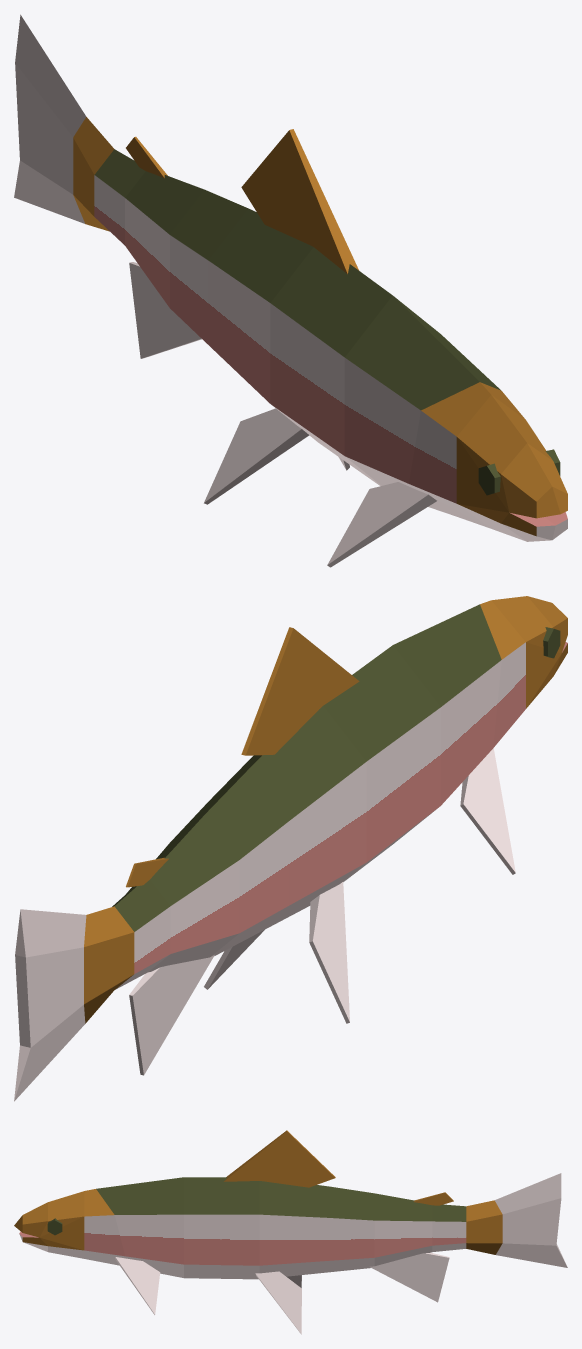
The model's file is 1dfba885-5874-4e3f-8926-0ded89b0894f.glb.
3 renders of one model, top to bottom at view 1: azimuth 30°, elevation 25°; view 2: azimuth 150°, elevation 25°; view 3: azimuth 270°, elevation 25°, orthographic. The views are drawn at different scales.
Parts seen in each view (by area): view 1: Geo_Trout; view 2: Geo_Trout; view 3: Geo_Trout.
Boxes of the visible parts, box(x1,y1,x2,y2) form: Geo_Trout: box(14, 14, 567, 567); Geo_Trout: box(14, 596, 567, 1101); Geo_Trout: box(14, 1130, 567, 1334).
Bounding box in the file's own units: 12.14 × 22.67 × 60.93.
Materials: 1 (1 with a texture image).
